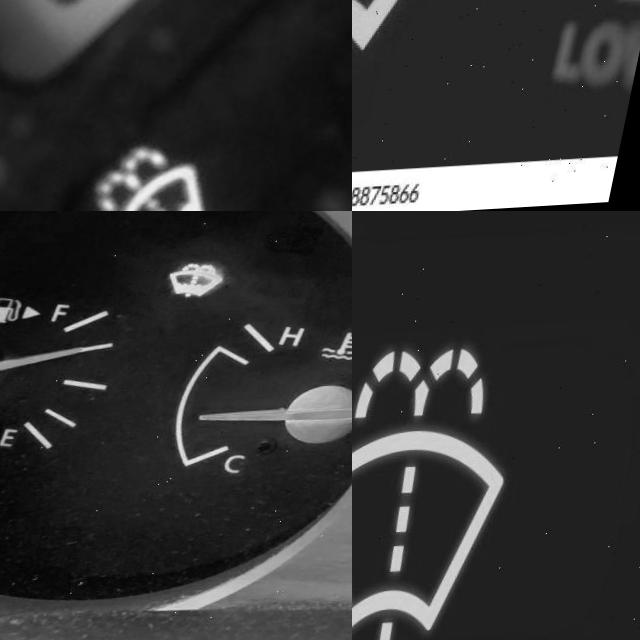Washer Fluid: (352, 346, 543, 640), (102, 145, 244, 211), (170, 263, 243, 307)
